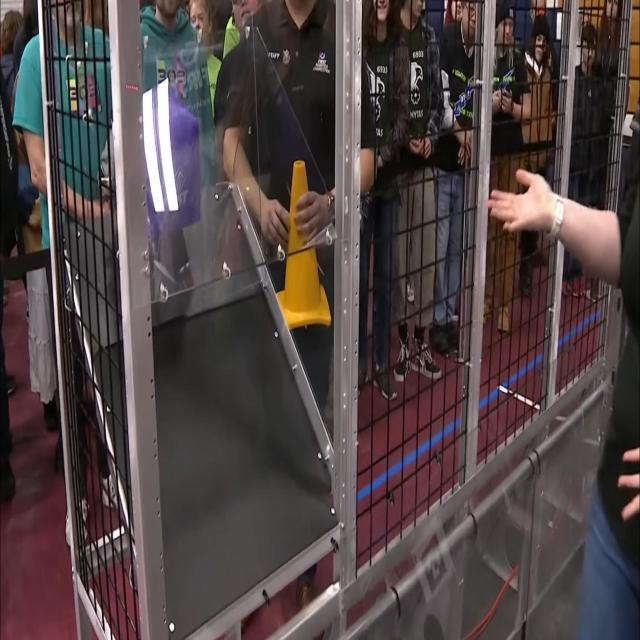frc_cone: (269, 160, 336, 328)
frc_cube: (142, 95, 198, 234)
